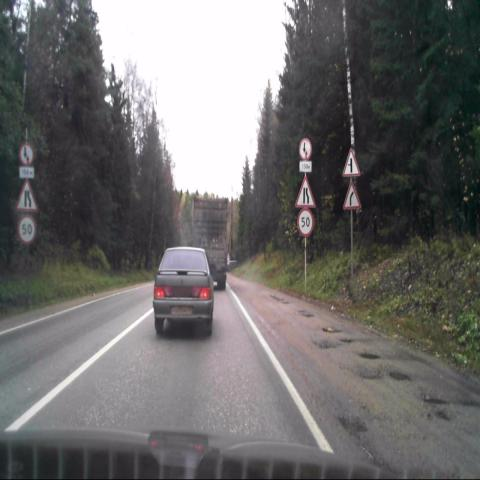1_11: (342, 180, 361, 210)
1_20_2: (294, 175, 316, 208), (16, 179, 38, 211)
2_6: (18, 142, 34, 166), (298, 138, 312, 160)
